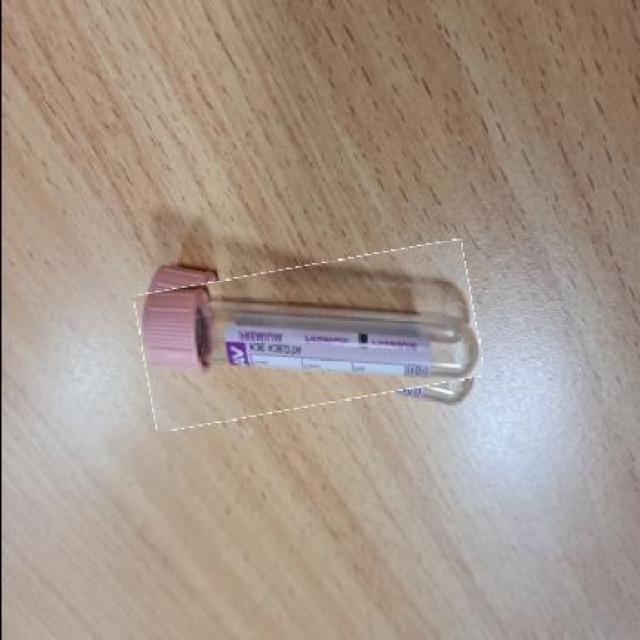Experimental-tube: (137, 253, 478, 419)
